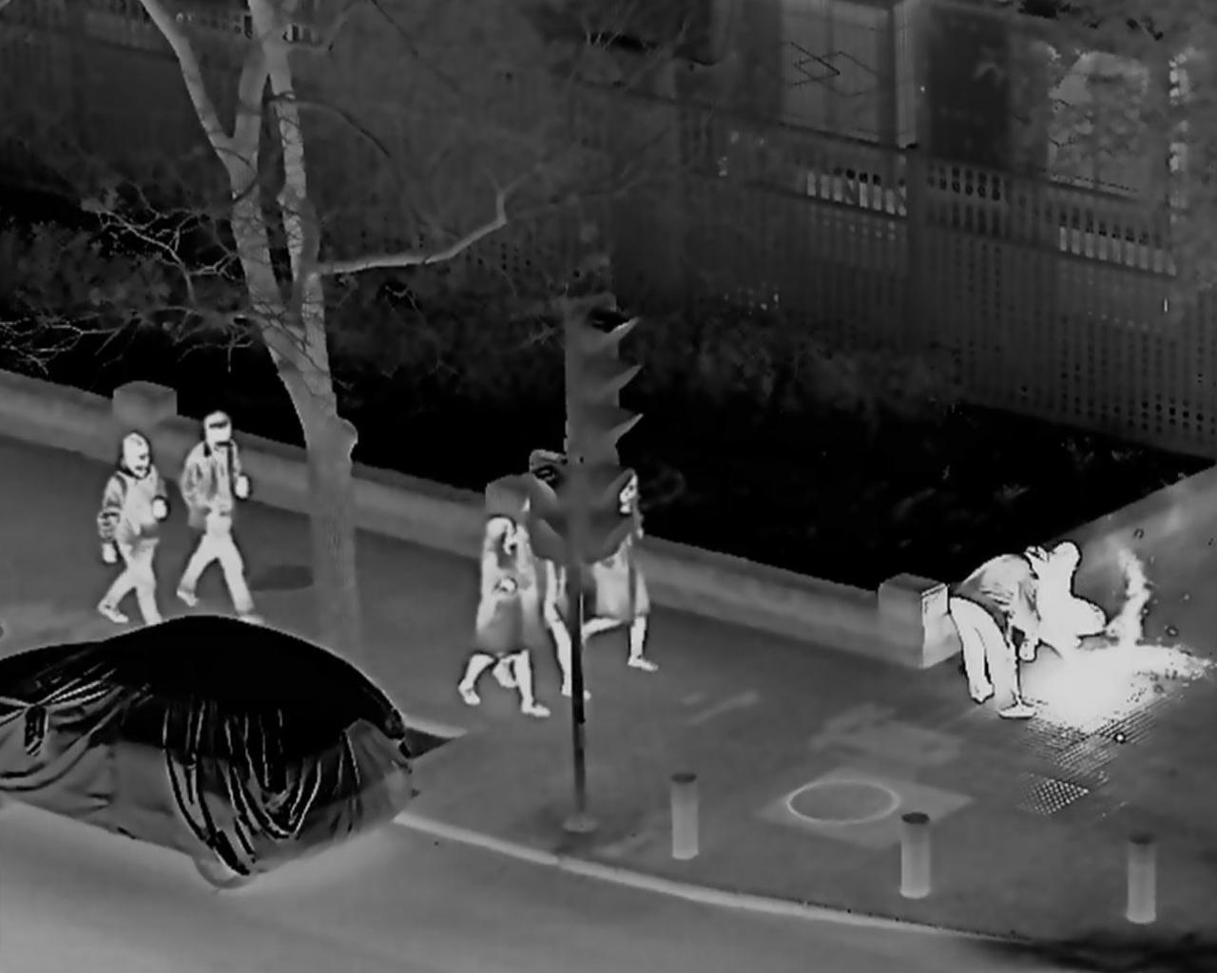person: (179, 413, 276, 631), (492, 488, 589, 696), (945, 542, 1052, 724), (454, 515, 549, 716), (578, 476, 662, 675), (96, 433, 171, 643), (1014, 540, 1114, 660)
